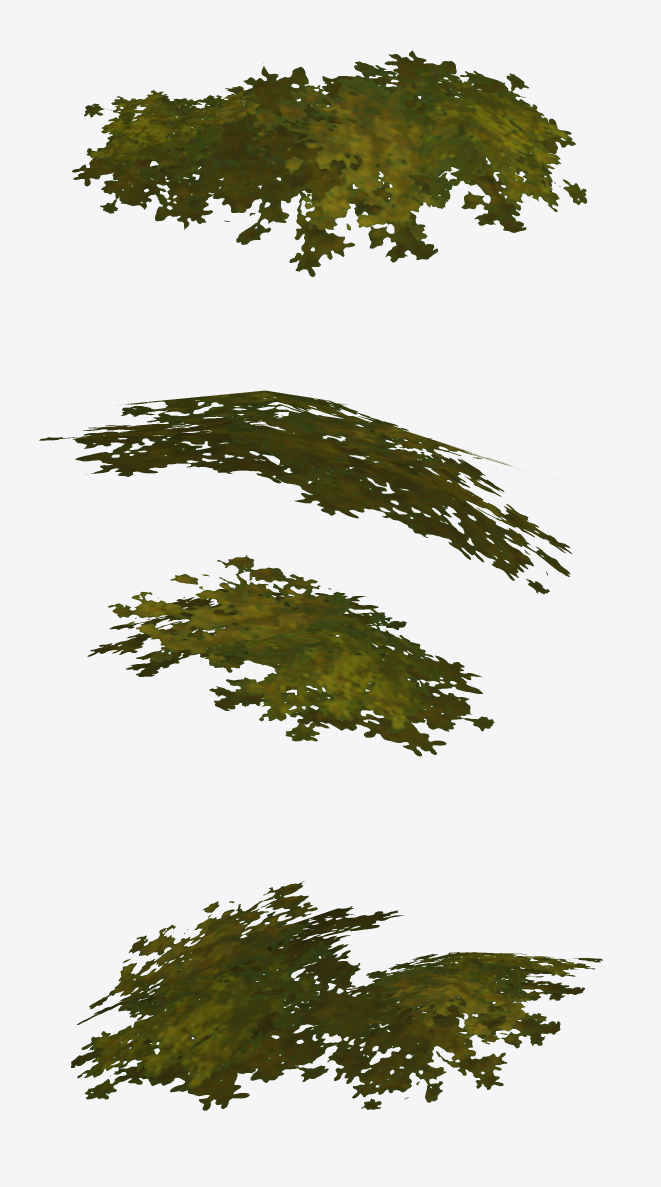
The model's file is fxmg_zhiwu4.FBX.
3 renders of one model, top to bottom at view 1: azimuth 30°, elevation 25°; view 2: azimuth 150°, elevation 25°; view 3: azimuth 270°, elevation 25°, orthographic. The views are drawn at different scales.
Parts seen in each view (by area): view 1: KLMSM_zhiwu4; view 2: KLMSM_zhiwu4; view 3: KLMSM_zhiwu4.
Part boxes in pixels (x1,y1,x2,y2): KLMSM_zhiwu4: (72,50,587,276); KLMSM_zhiwu4: (39,390,571,756); KLMSM_zhiwu4: (71,881,602,1110).
Bounding box in the file's own units: 38.51 × 13.05 × 39.43.
